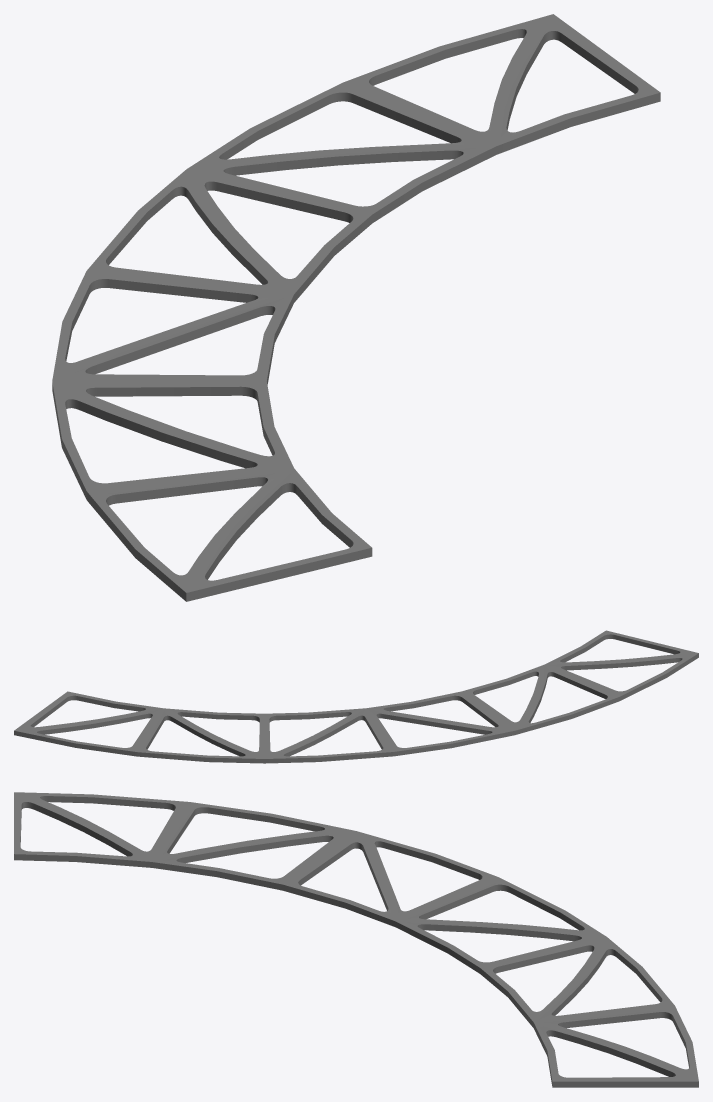
File: q-scifi-mod-column-metalsupport-curve.glb
The picture shows the model from 3 angles, top to bottom: view 1: azimuth 30°, elevation 25°; view 2: azimuth 150°, elevation 25°; view 3: azimuth 270°, elevation 25°; orthographic projection. The views are drawn at different scales.
Visible parts, largest first — view 1: Column_MetalSupport_Curve; view 2: Column_MetalSupport_Curve; view 3: Column_MetalSupport_Curve.
Part boxes in pixels (left/top/right/bottom): Column_MetalSupport_Curve: left=52, top=14, right=660, bottom=601; Column_MetalSupport_Curve: left=14, top=630, right=698, bottom=763; Column_MetalSupport_Curve: left=14, top=792, right=698, bottom=1087.
Size of the model in its own units: 4.47 by 0.044 by 4.47.
Materials: 2 (2 with a texture image).
